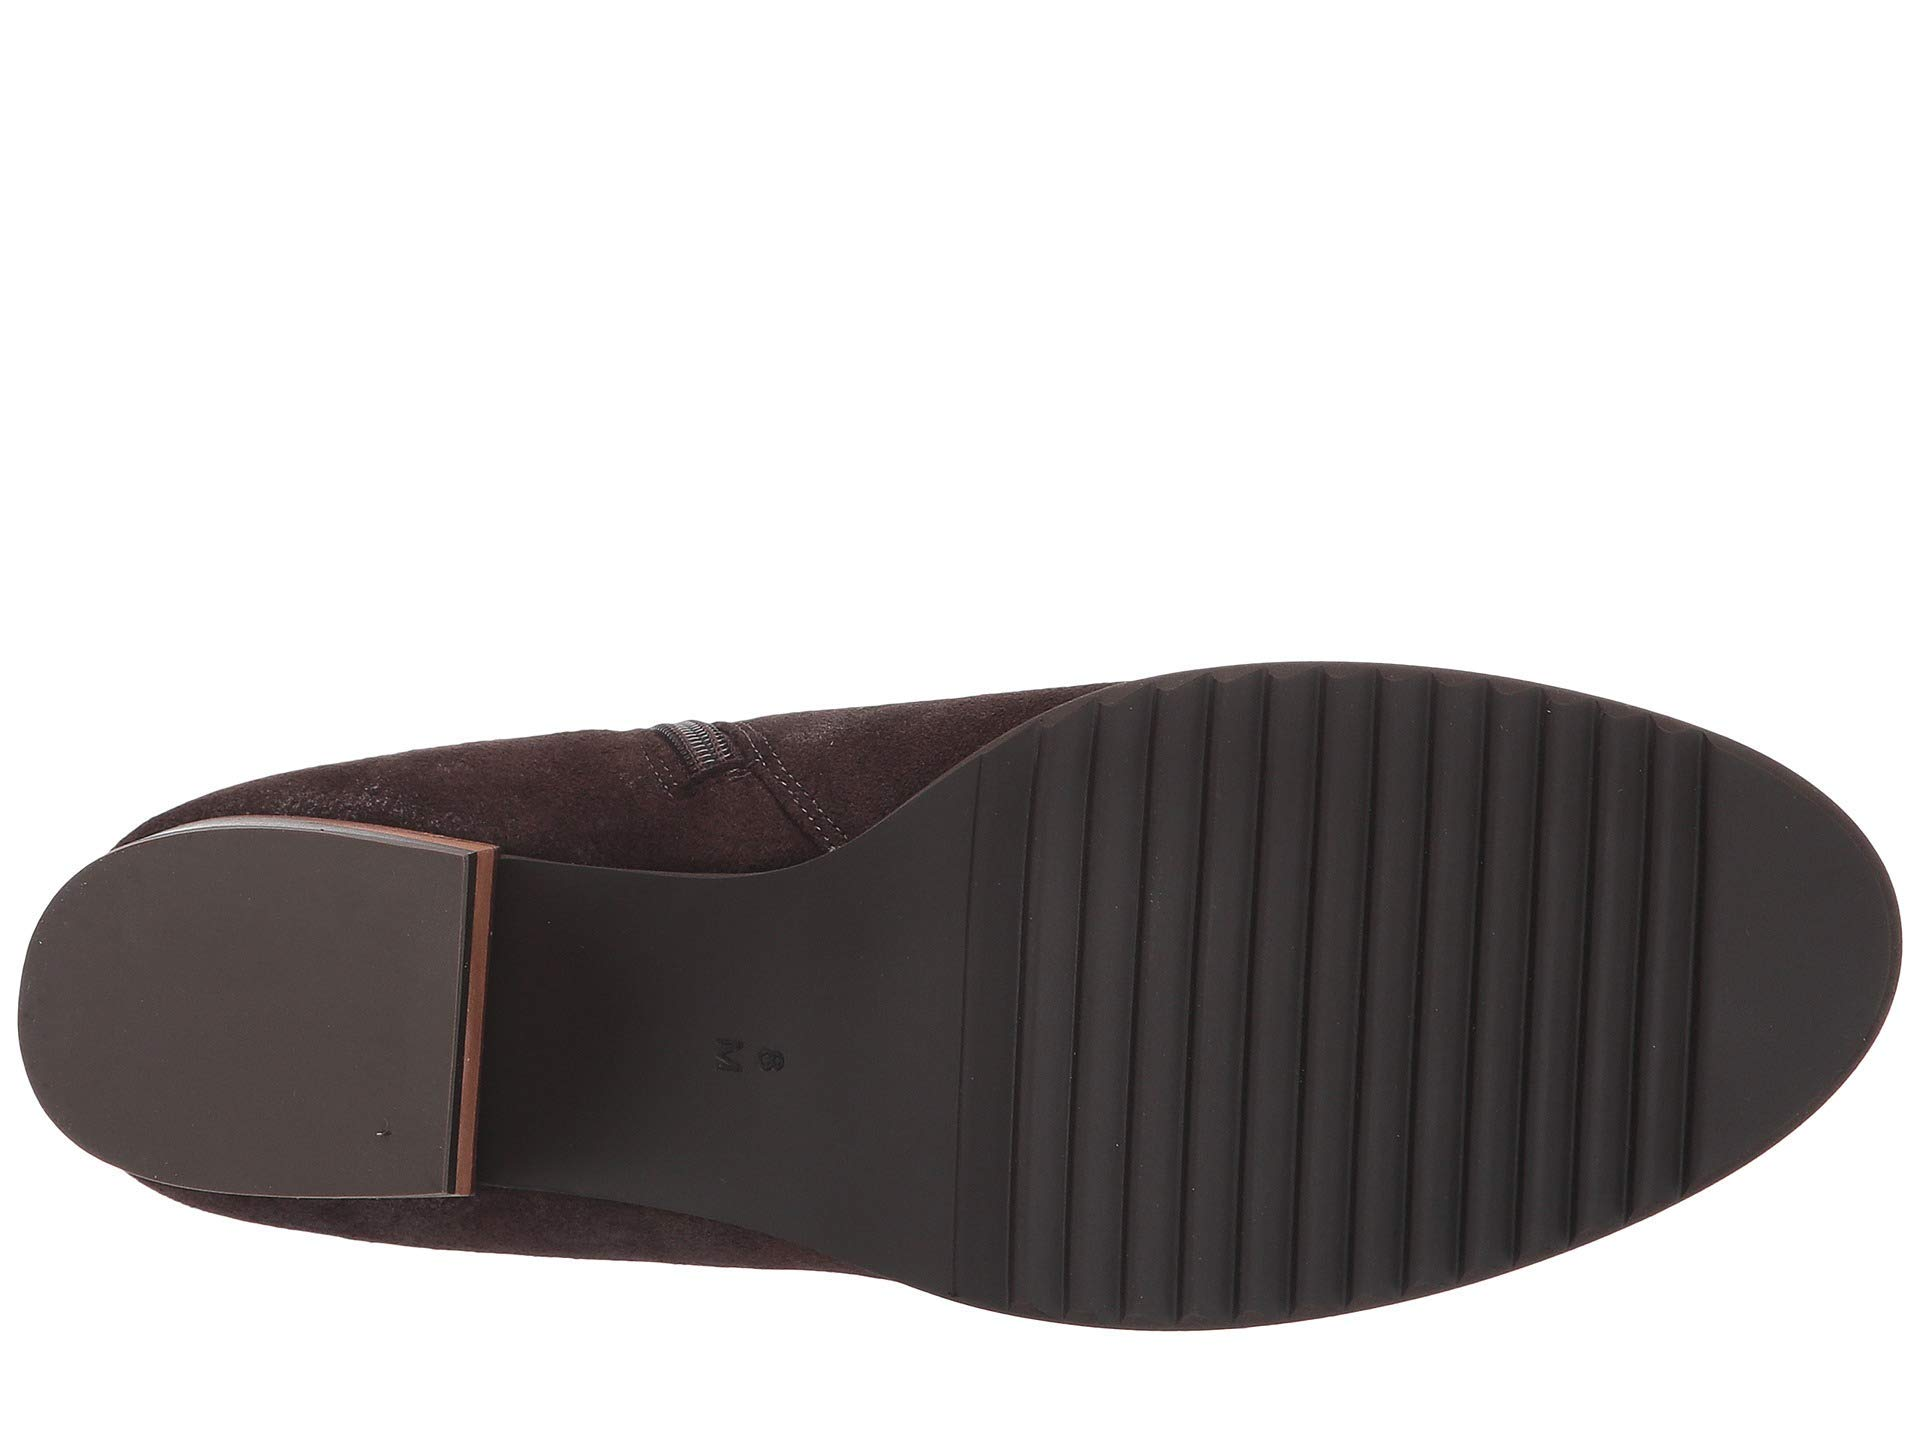line: (1045, 722, 1642, 1178)
quad: (1045, 722, 1642, 1178)
text: (688, 989, 835, 1142)
